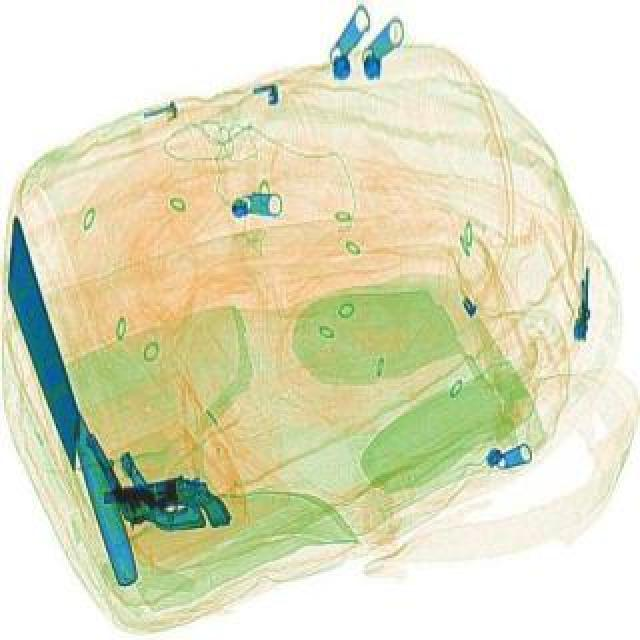gun: (80, 408, 208, 552), (98, 468, 230, 540)
knife: (0, 256, 148, 588)
